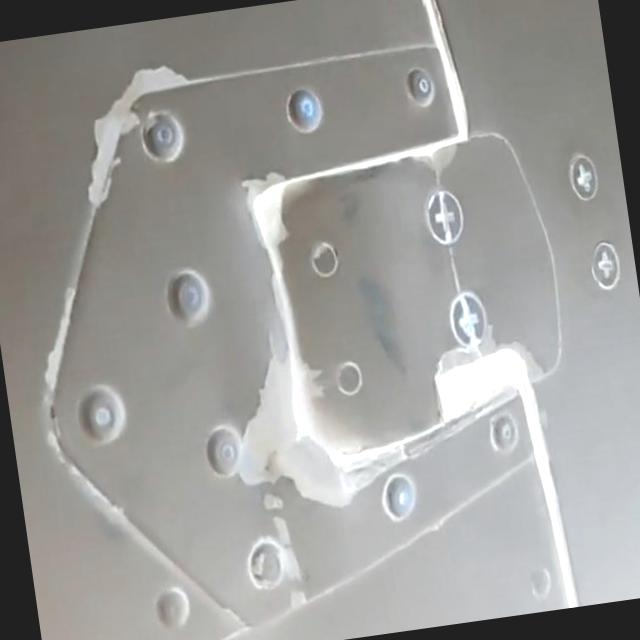dent: (239, 174, 392, 510), (45, 67, 189, 394), (436, 349, 579, 607)
